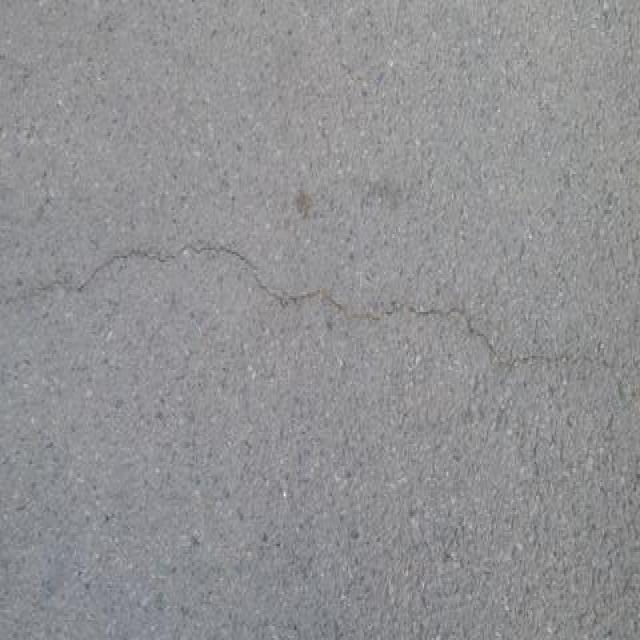Retak-Melintang: (78, 240, 580, 365)
